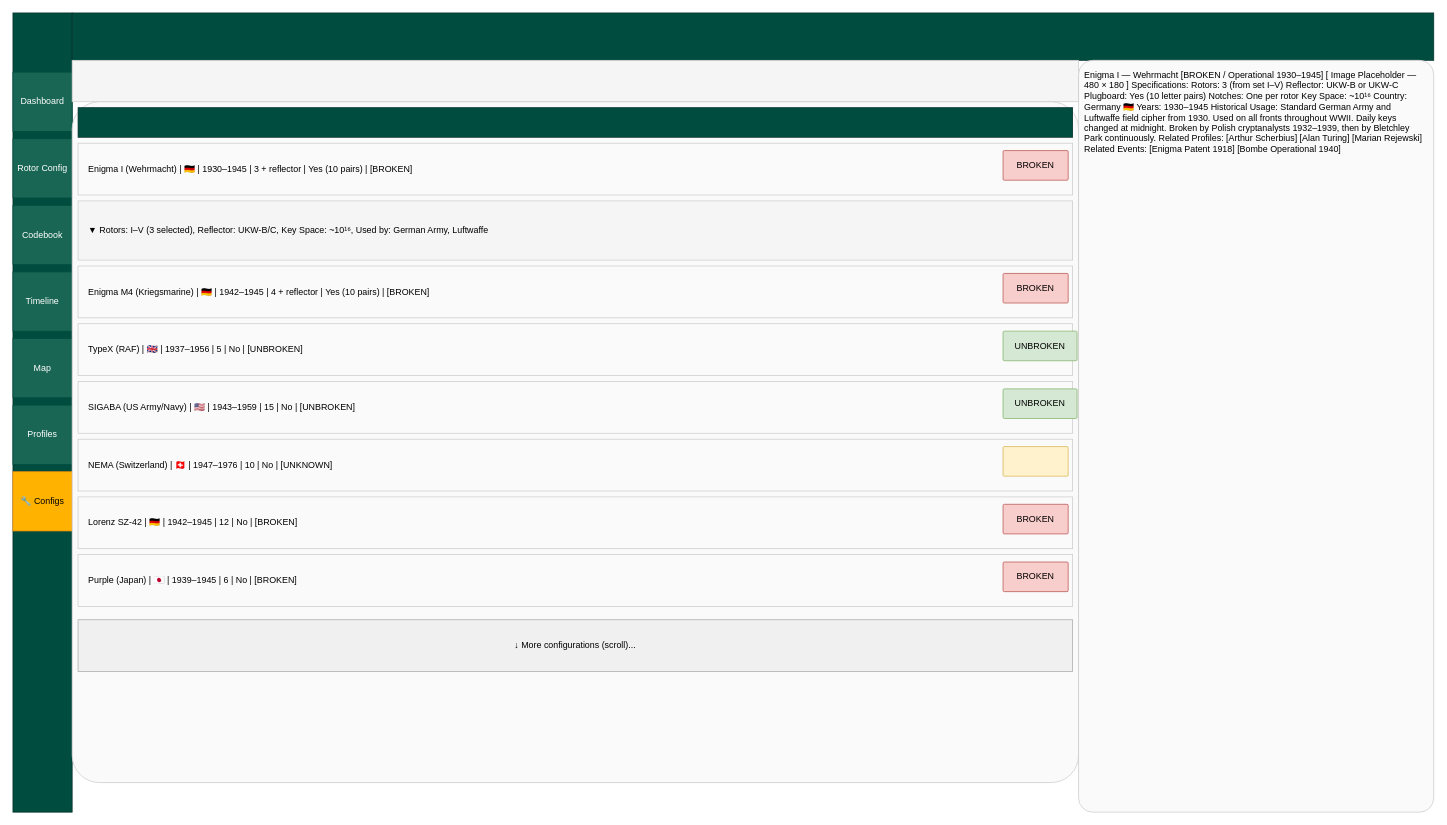
Image size: 1447x825. Some labels were removed from this diagram. The centre of each missing label's shape, as x and y in pixels:
"[All ✓] [Axis] [Allied] [Custom] Sort: [Name] [Year] [Country]" belongs at [575,81].
"Historical Cipher Machine Configurations" belongs at [752,36].
"Machine Name | Country | Years | Rotors | Plugboard | Status" belongs at [575,122].
"UNKNOWN" belongs at [1035,461].
